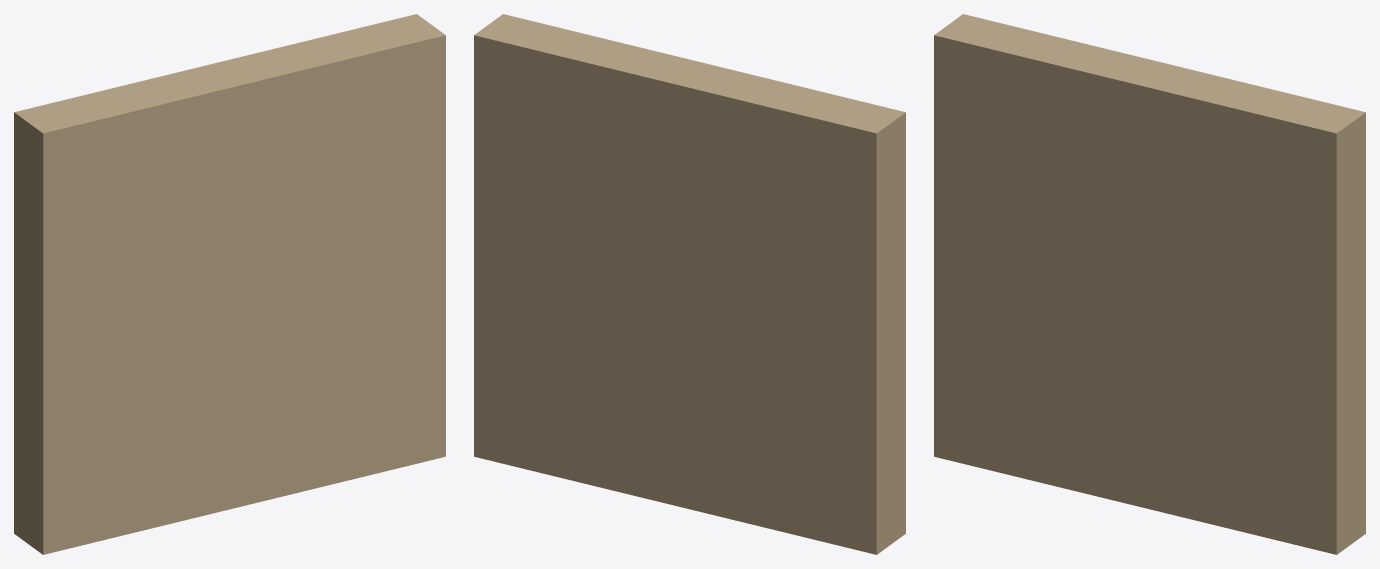
3 views of the same model, side by side, from view 1: azimuth 30°, elevation 25°; view 2: azimuth 150°, elevation 25°; view 3: azimuth 330°, elevation 25° (orthographic).
Bounding box in the file's own units: 8 × 8 × 1.
